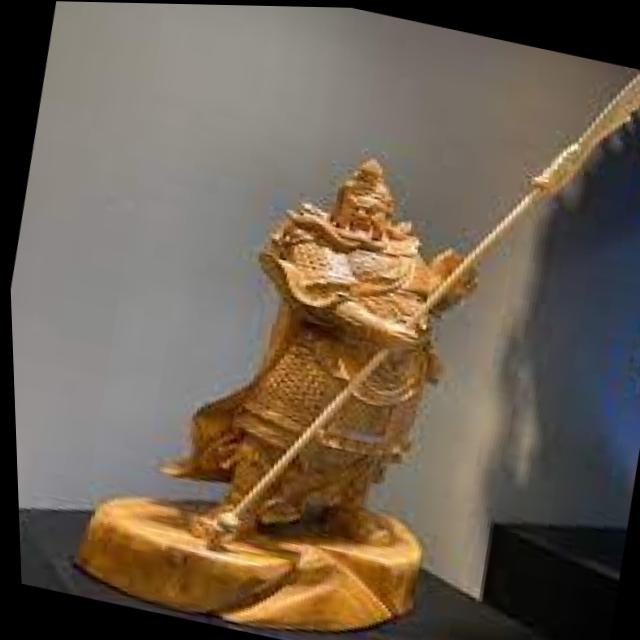Guan Yu: (209, 135, 489, 533)
